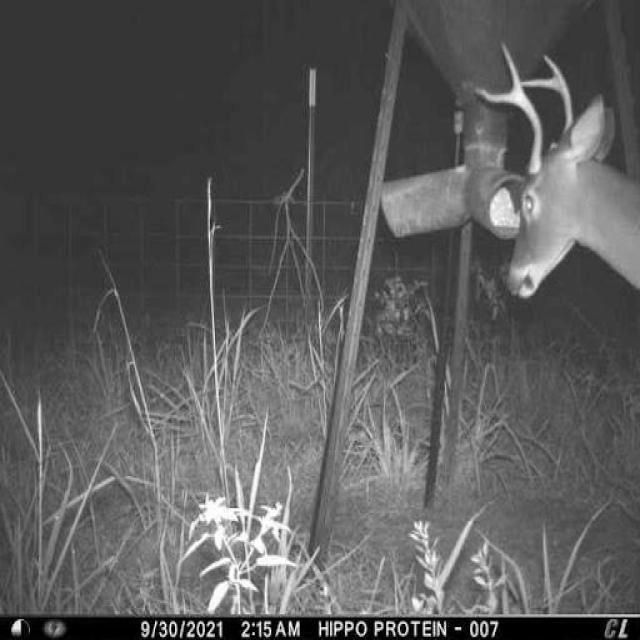Deer: (474, 35, 638, 317)
